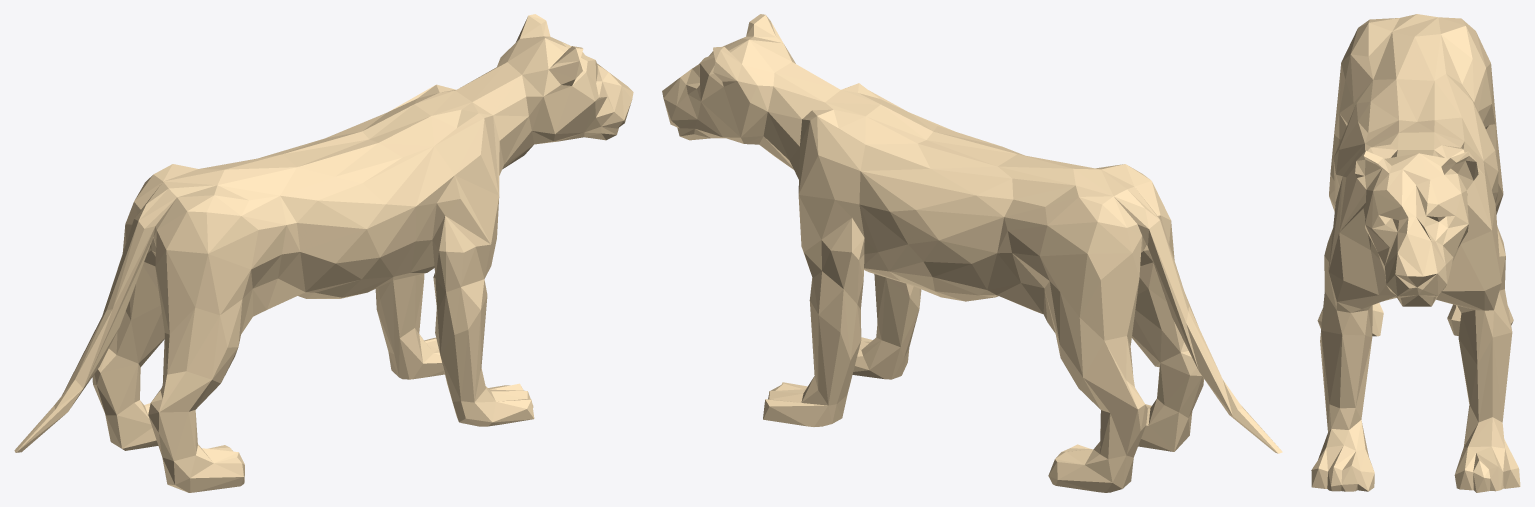
File: lion.glb
3 views of the same model, side by side, from view 1: azimuth 30°, elevation 25°; view 2: azimuth 150°, elevation 25°; view 3: azimuth 270°, elevation 25° (orthographic). The views are drawn at different scales.
Parts seen in each view (by area): view 1: Lion_body.004_2; view 2: Lion_body.004_2; view 3: Lion_body.004_2.
Part boxes in pixels (x1,y1,x2,y2): Lion_body.004_2: [14, 14, 633, 492]; Lion_body.004_2: [662, 14, 1282, 492]; Lion_body.004_2: [1311, 14, 1520, 492].
Size of the model in its own units: 24.63 by 12.87 by 6.55.
